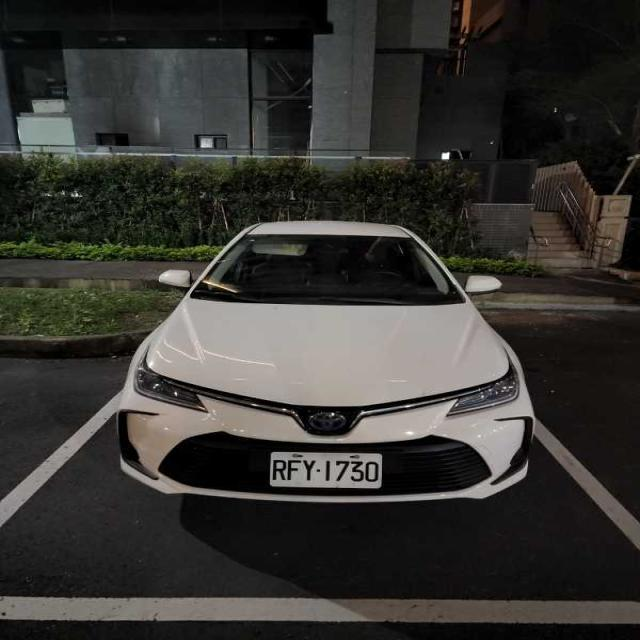license plate: (270, 451, 382, 489)
